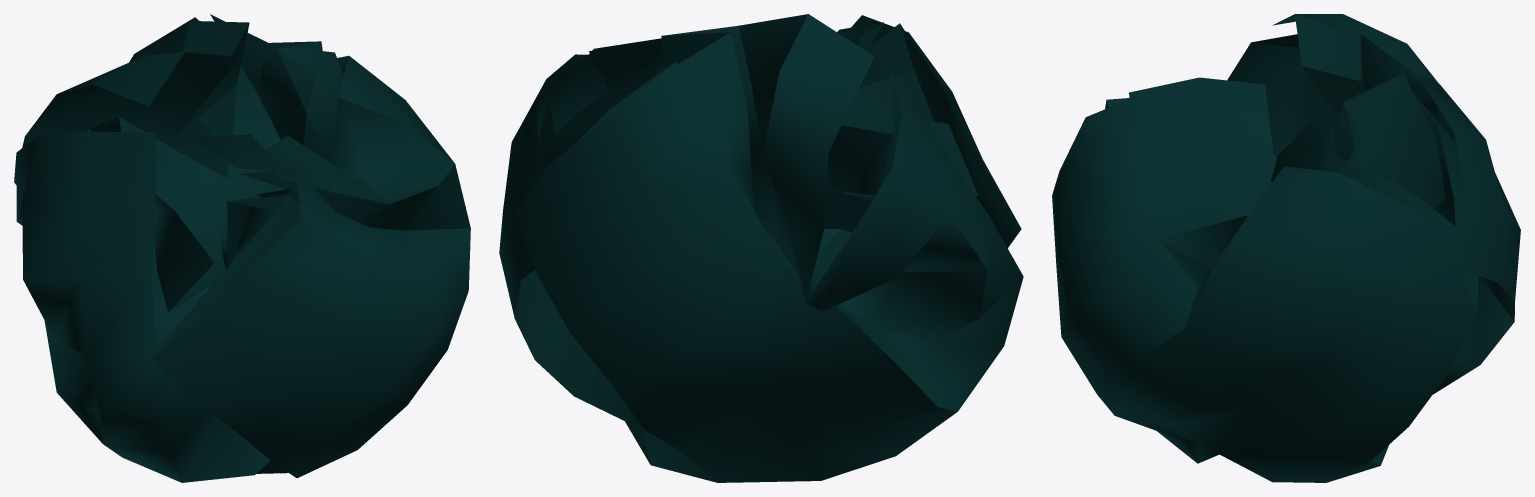
File: CandyWrapper003.glb
The picture shows the model from 3 angles, left to right: view 1: azimuth 30°, elevation 25°; view 2: azimuth 150°, elevation 25°; view 3: azimuth 270°, elevation 25°; orthographic projection. The views are drawn at different scales.
Visible parts, largest first — view 1: CandyWrapper003; view 2: CandyWrapper003; view 3: CandyWrapper003.
Boxes of the visible parts, <box> form: CandyWrapper003: <box>14,14,470,482</box>; CandyWrapper003: <box>499,14,1023,482</box>; CandyWrapper003: <box>1052,14,1520,482</box>.
Size of the model in its own units: 0.1863 by 0.1836 by 0.1824.
